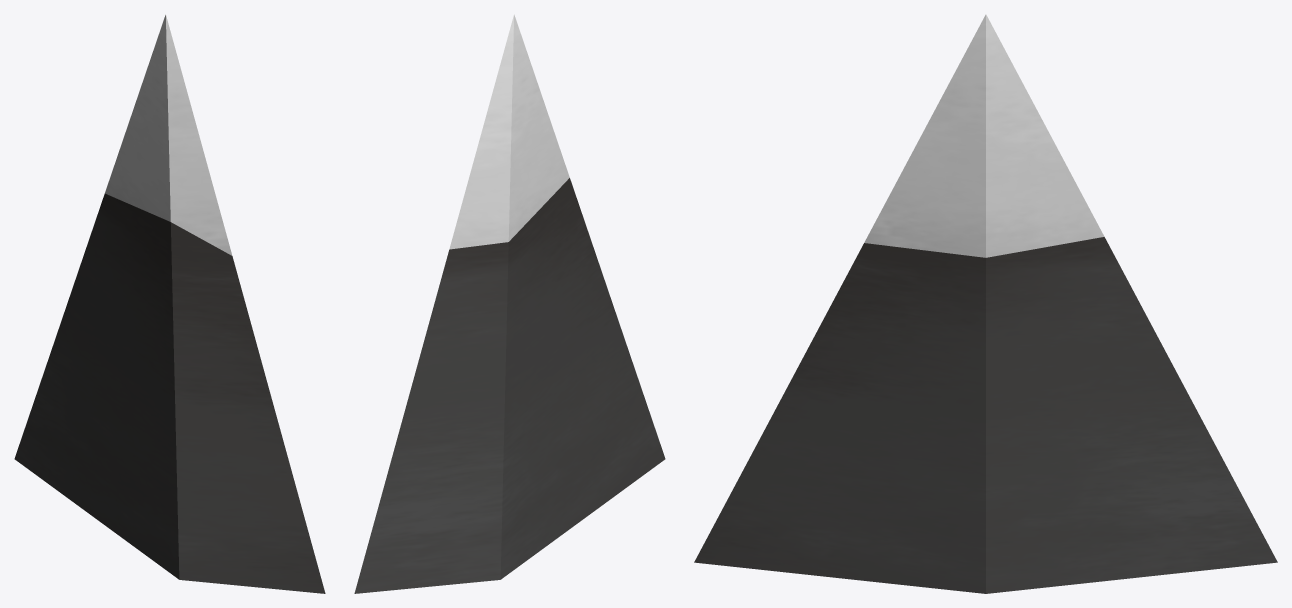
The model's file is mountain2.fbx.
3 renders of one model, left to right at view 1: azimuth 30°, elevation 25°; view 2: azimuth 150°, elevation 25°; view 3: azimuth 270°, elevation 25°, orthographic. The views are drawn at different scales.
Visible parts, largest first — view 1: pPyramid3; view 2: pPyramid3; view 3: pPyramid3.
Part boxes in pixels (<box>): pPyramid3: <box>14,14,325,593</box>; pPyramid3: <box>354,14,665,593</box>; pPyramid3: <box>694,14,1277,593</box>.
Bounding box in the file's own units: 1.03 × 3.12 × 3.09.
1 material, 1 textured.
